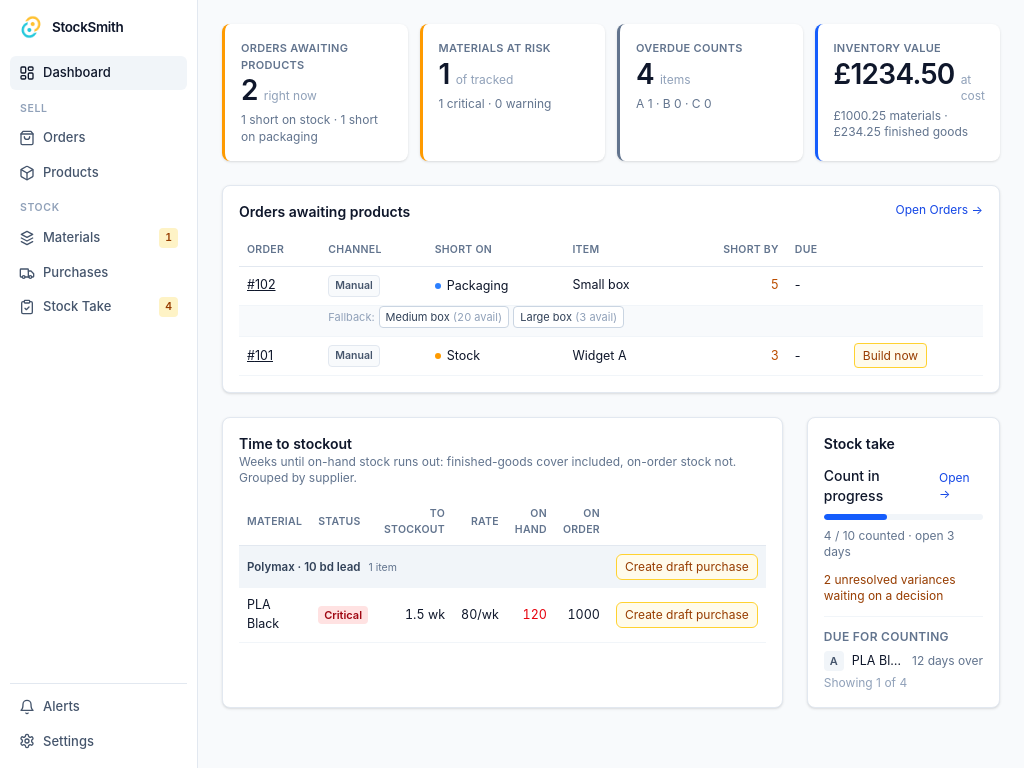
Test: shows ranked fallback suggestions on a packaging shortfall and logs the picked one
Expected: the button "Large box (3 avail)" is shown, x1=513 y1=306 x2=624 y2=328
Click the button "Medium box (20 avail)": (444, 317) x1=379 y1=306 x2=509 y2=328
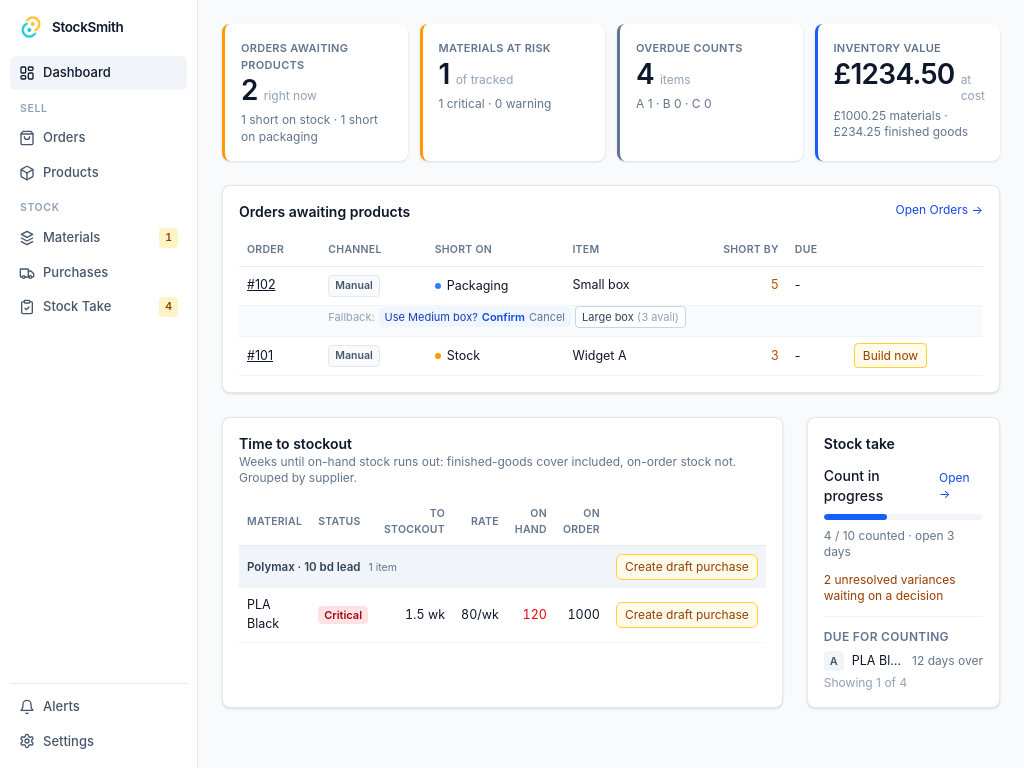
Click the button "Confirm": (503, 317) x1=482 y1=308 x2=525 y2=325
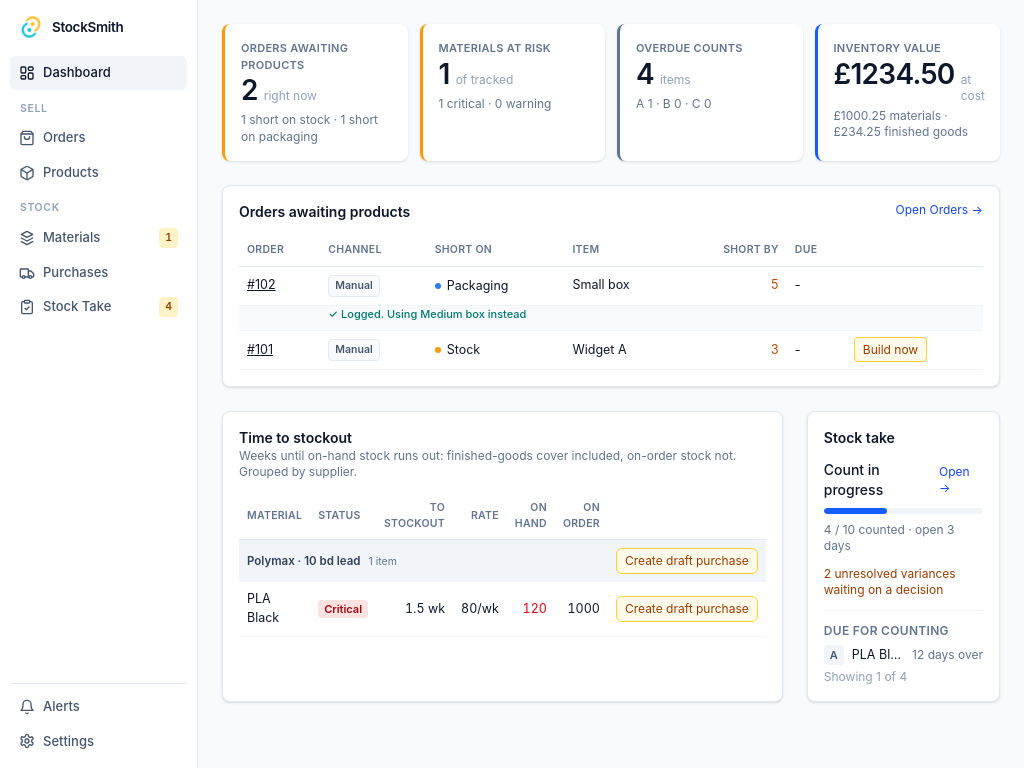
Result: the text "✓ Logged. Using Medium box instead" is shown at x1=328 y1=306 x2=526 y2=320
